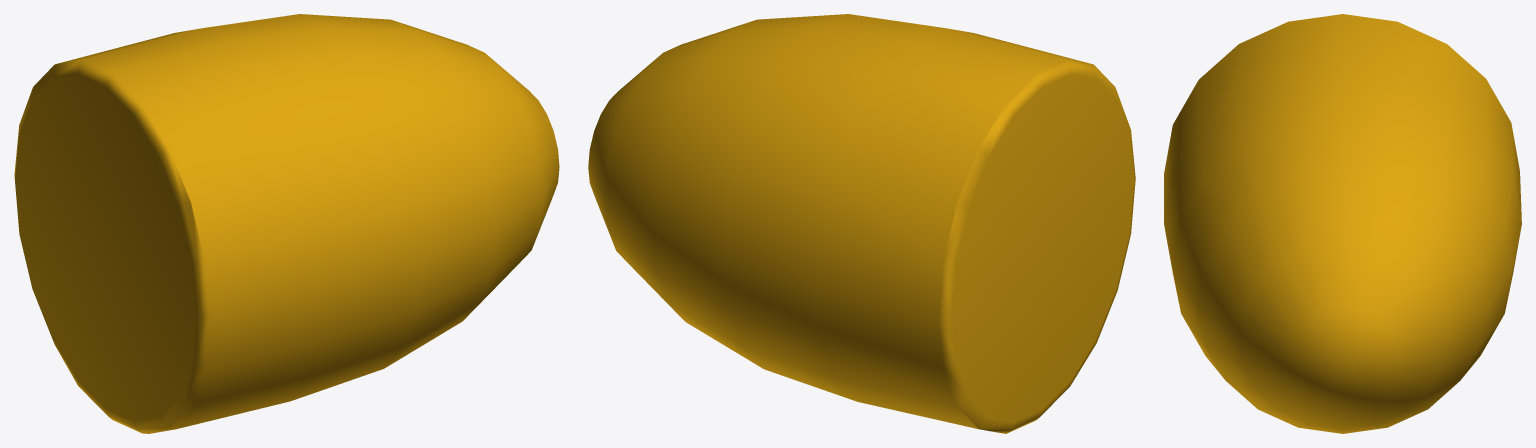
Rendered from picklesendslice_notbeveled.fbx.
3 renders of one model, left to right at view 1: azimuth 30°, elevation 25°; view 2: azimuth 150°, elevation 25°; view 3: azimuth 270°, elevation 25°, orthographic. The views are drawn at different scales.
Visible parts, largest first — view 1: pCylinder82; view 2: pCylinder82; view 3: pCylinder82.
Part boxes in pixels (left/top/right/bottom): pCylinder82: left=14, top=14, right=559, bottom=433; pCylinder82: left=588, top=14, right=1135, bottom=433; pCylinder82: left=1164, top=14, right=1521, bottom=433.
Bounding box in the file's own units: 0.0677 × 0.0517 × 0.0528.
